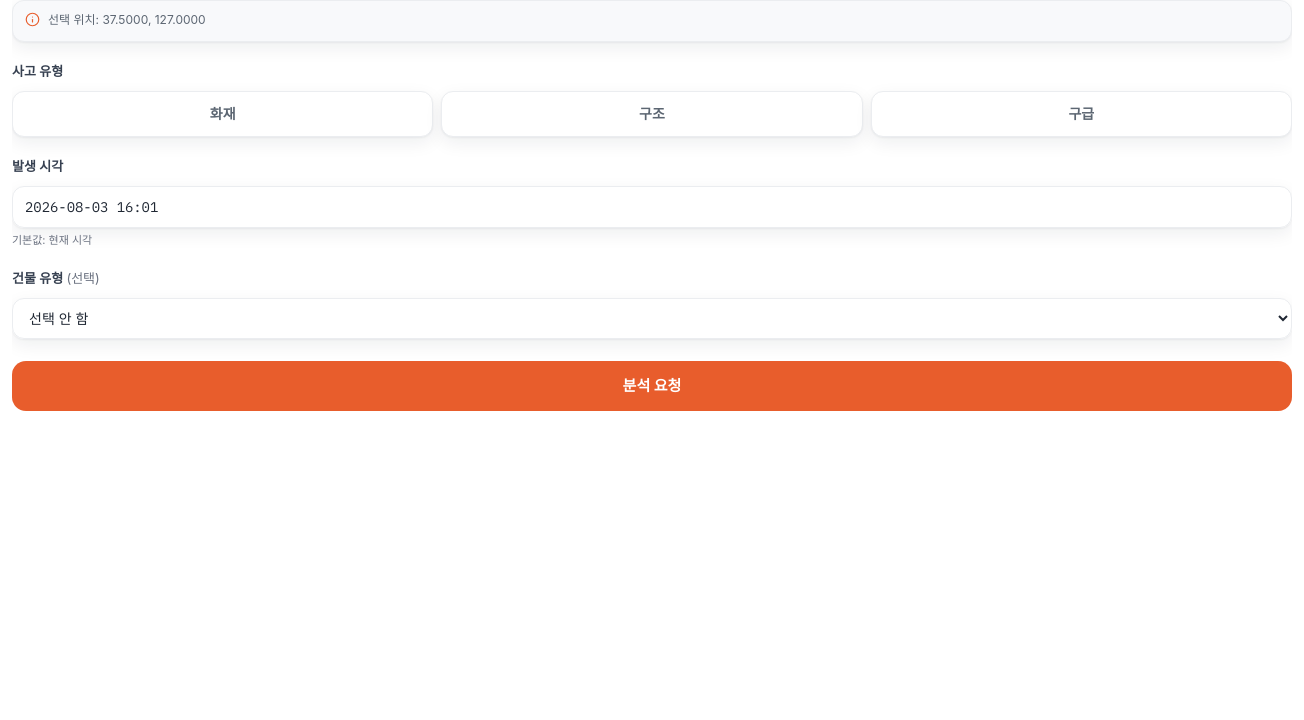
DispatchRequestForm › 분석 요청 실패는 재시도 UI를 표시한다
Click the button "화재". click: (223, 114)
box: [12,91,433,137]
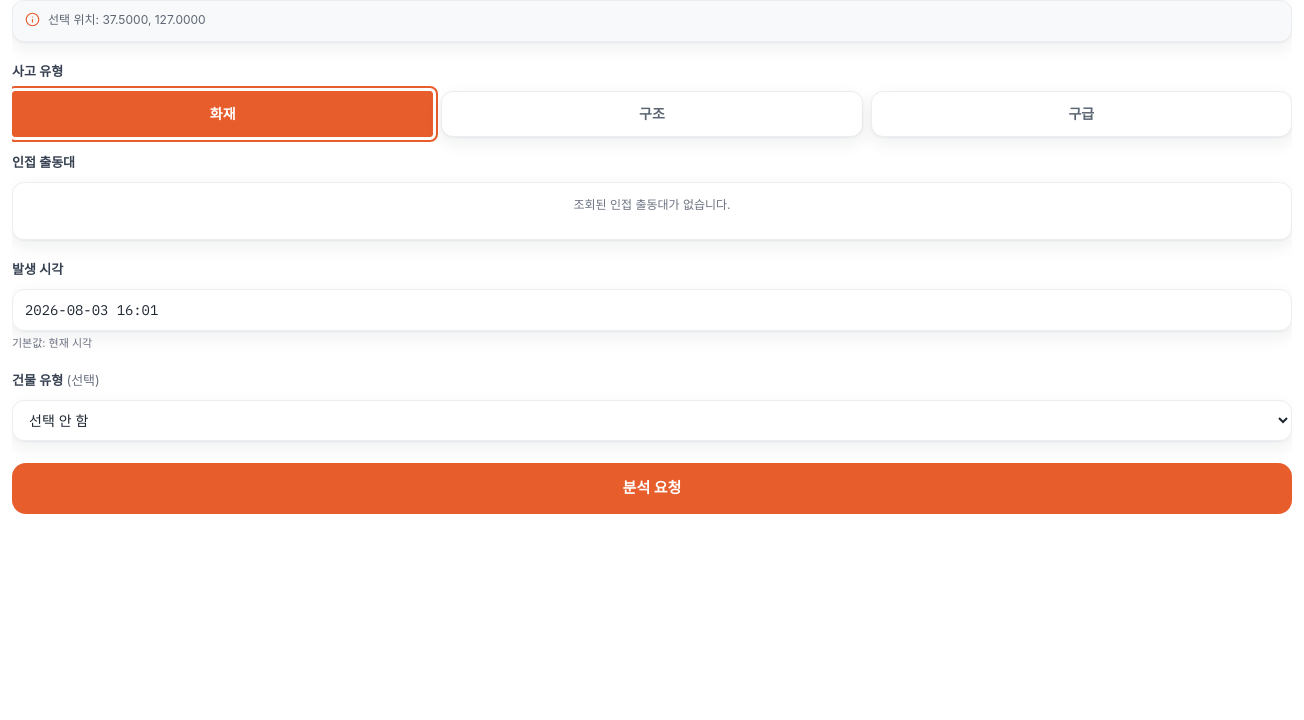
Click the button "분석 요청". click: (652, 488)
box: [12,463,1292,514]
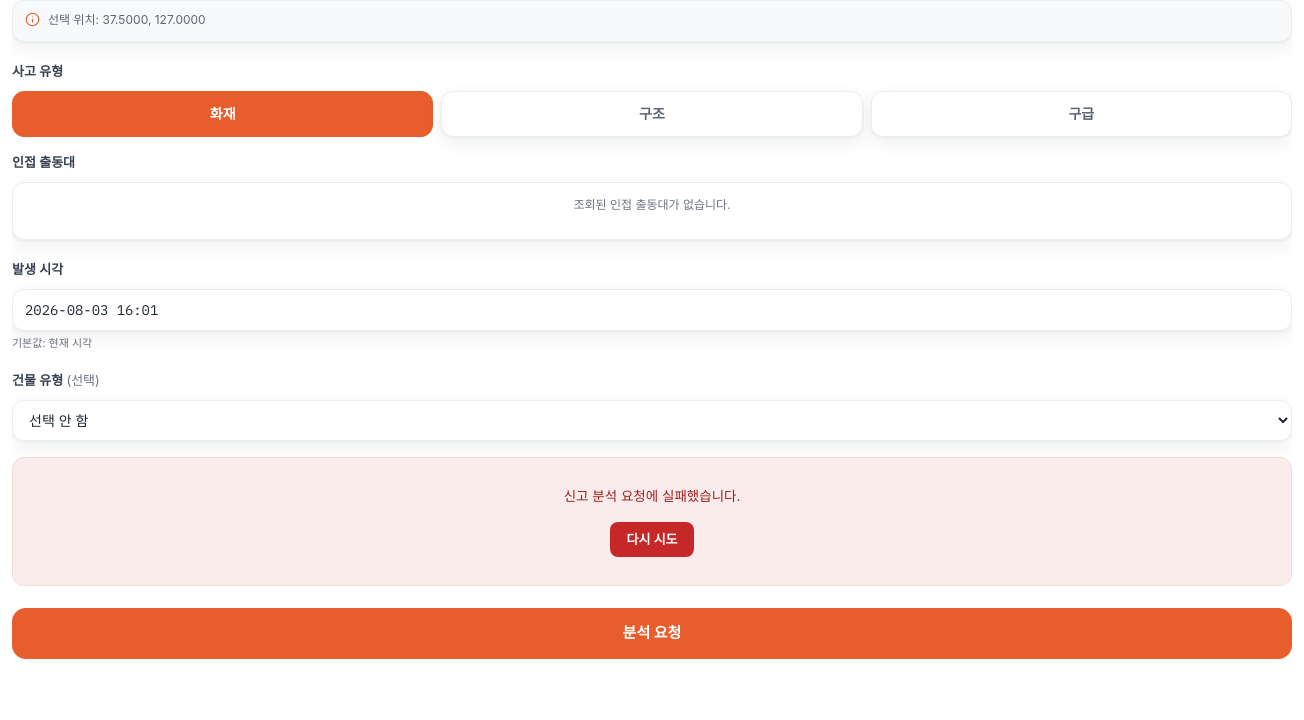
Result: the text "신고 분석 요청에 실패했습니다." is shown at [564,486,740,508]
Result: the button "다시 시도" is shown at [610,522,694,557]
